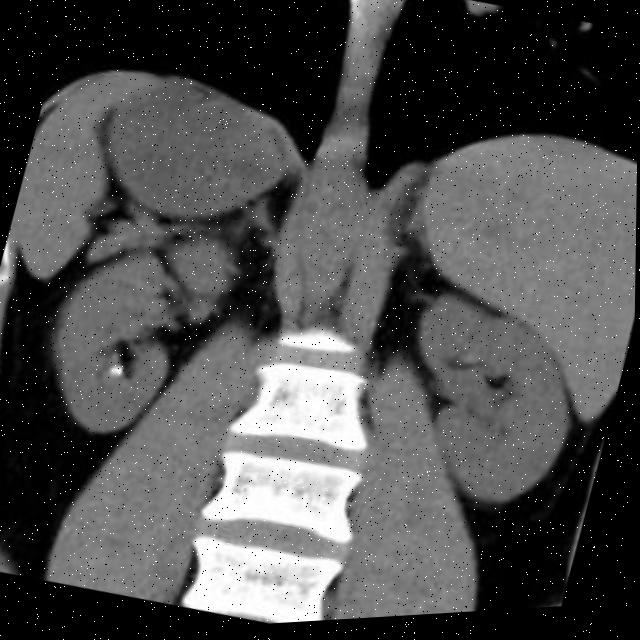Tas_Var: (118, 370, 127, 378), (110, 366, 117, 375), (119, 365, 125, 373)
